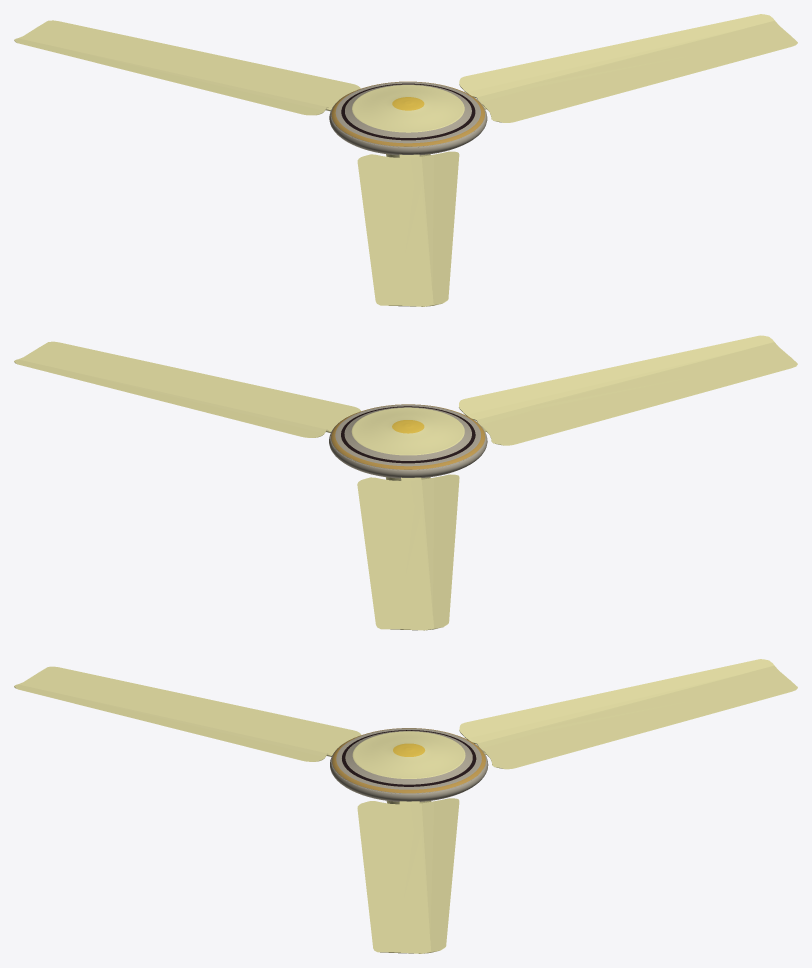
The model's file is Fan.fbx.
The picture shows the model from 3 angles, top to bottom: view 1: azimuth 30°, elevation 25°; view 2: azimuth 150°, elevation 25°; view 3: azimuth 270°, elevation 25°; orthographic projection.
Visible parts, largest first — view 1: Plane.007, Plane.009, Plane.008, Sphere.002; view 2: Plane.009, Plane.008, Plane.007, Sphere.002; view 3: Plane.008, Plane.007, Plane.009, Sphere.002.
Boxes of the visible parts, bbox=[...] form: Plane.007: bbox=[459, 14, 797, 122]; Plane.009: bbox=[357, 151, 459, 306]; Plane.008: bbox=[14, 20, 360, 115]; Sphere.002: bbox=[329, 81, 487, 155]; Plane.009: bbox=[459, 335, 797, 445]; Plane.008: bbox=[357, 474, 459, 630]; Plane.007: bbox=[14, 341, 360, 437]; Sphere.002: bbox=[329, 404, 487, 478]; Plane.008: bbox=[459, 659, 797, 769]; Plane.007: bbox=[357, 798, 459, 953]; Plane.009: bbox=[14, 666, 361, 761]; Sphere.002: bbox=[330, 728, 488, 801].
Size of the model in its own units: 856 by 219 by 977.
